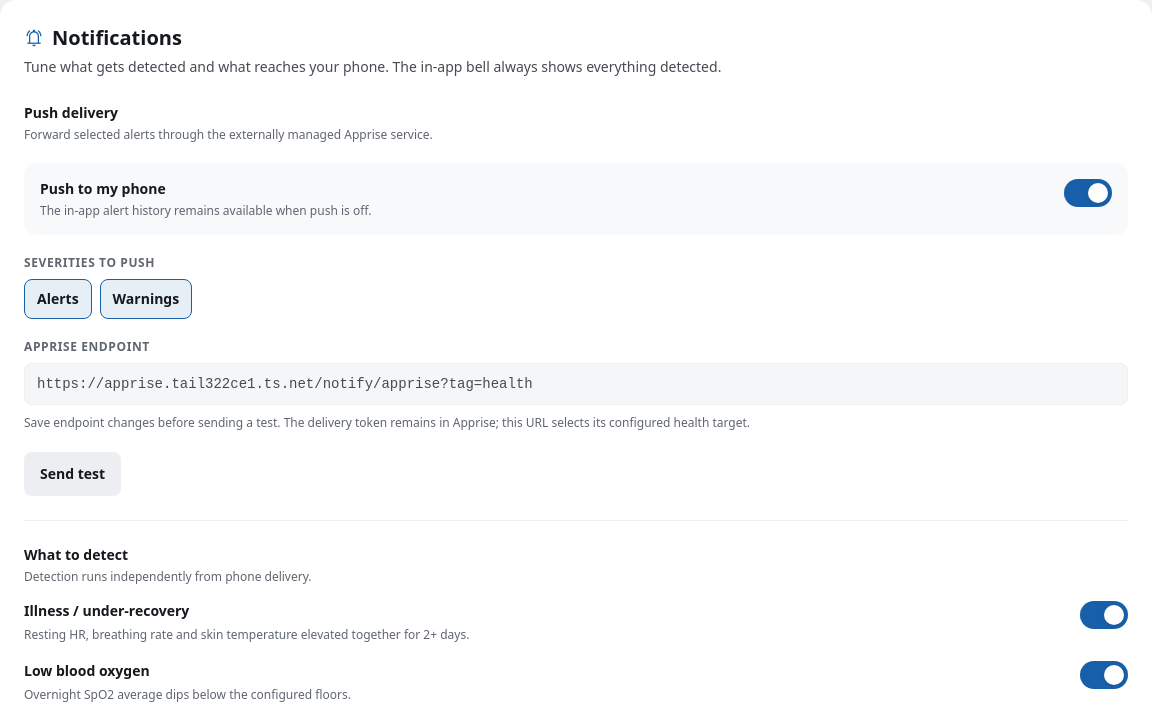
it: NotificationSettingsCard › reports a delivered test push
Click the button with test id "notif-test".
click(73, 474)  # box [24, 452, 121, 496]
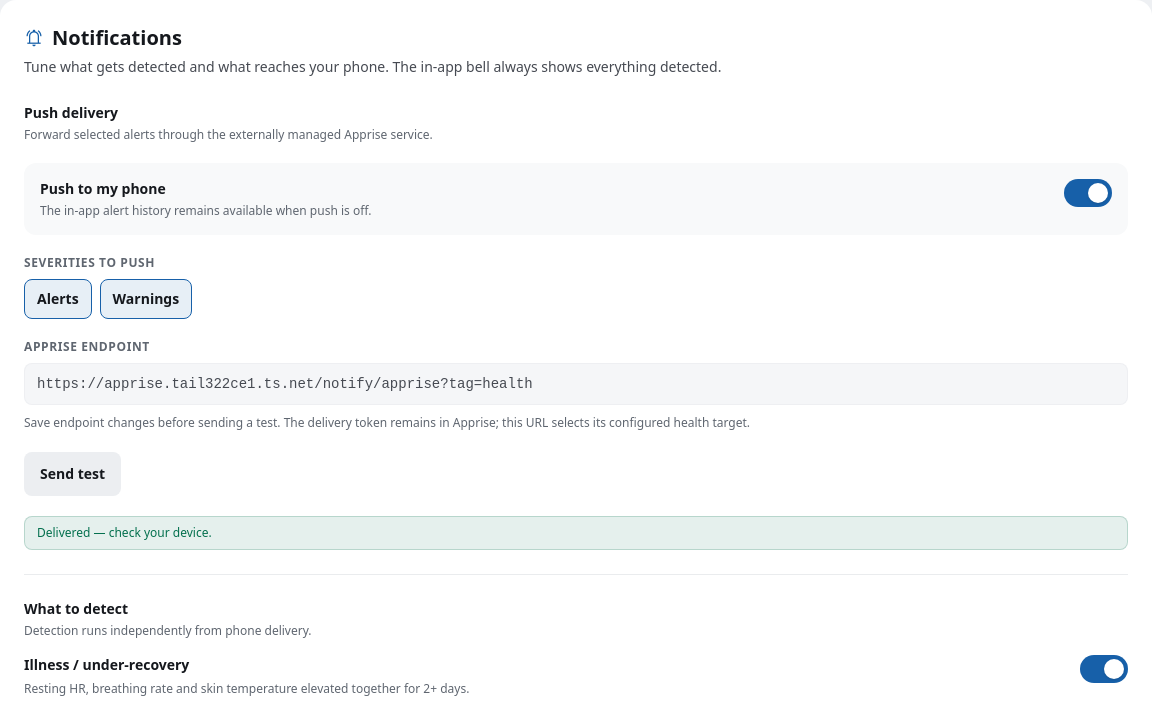
Now the text with test id "notif-test-result" shows "Delivered", box [37, 524, 212, 541]
